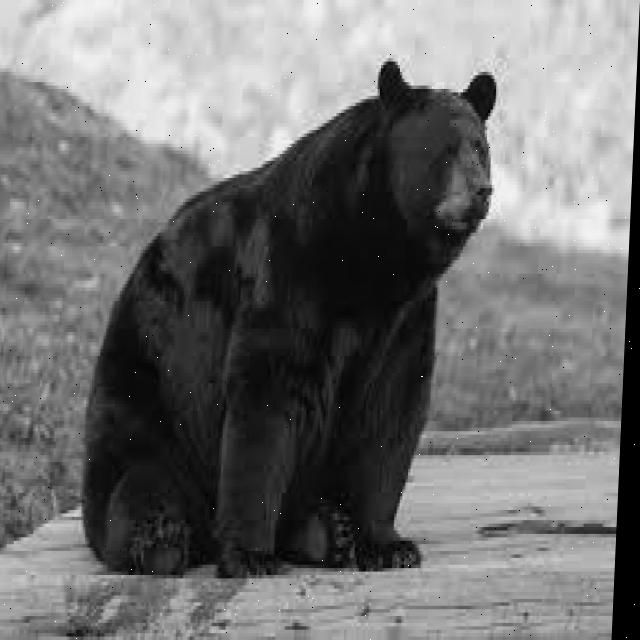Bear: (67, 81, 537, 586)
